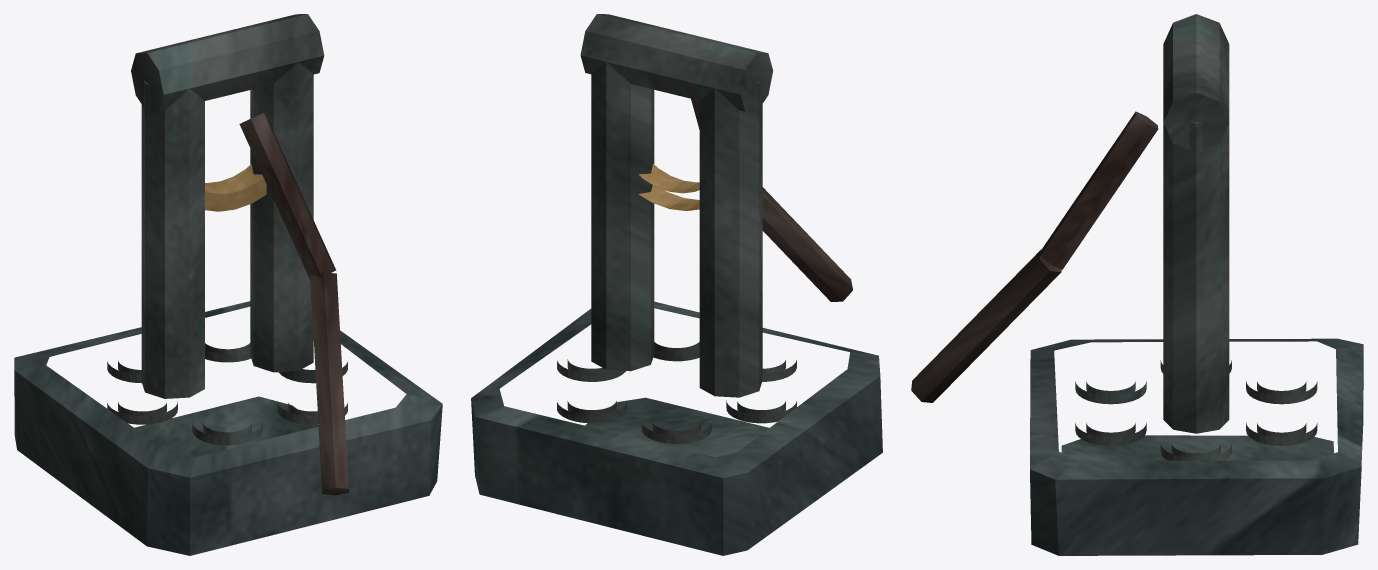
File: 0694_rope_anchor_19.glb
3 renders of one model, left to right at view 1: azimuth 30°, elevation 25°; view 2: azimuth 150°, elevation 25°; view 3: azimuth 270°, elevation 25°, orthographic.
Visible parts, largest first — view 1: stone_dark, iron, wood_dark, brass; view 2: iron, stone_dark, wood_dark, brass; view 3: stone_dark, iron, wood_dark.
Boxes of the visible parts, x1,y1,x2,y2 form: stone_dark: (14,301,442,555); iron: (107,14,347,445); wood_dark: (239,112,348,495); brass: (205,164,266,211); iron: (557,14,796,443); stone_dark: (471,301,882,555); wood_dark: (691,99,852,301); brass: (638,163,699,210); stone_dark: (1030,338,1363,555); iron: (1075,14,1317,460); wood_dark: (911,111,1158,402).
Size of the model in its own units: 1.22 by 1.78 by 1.65.
4 materials, 4 textured.
